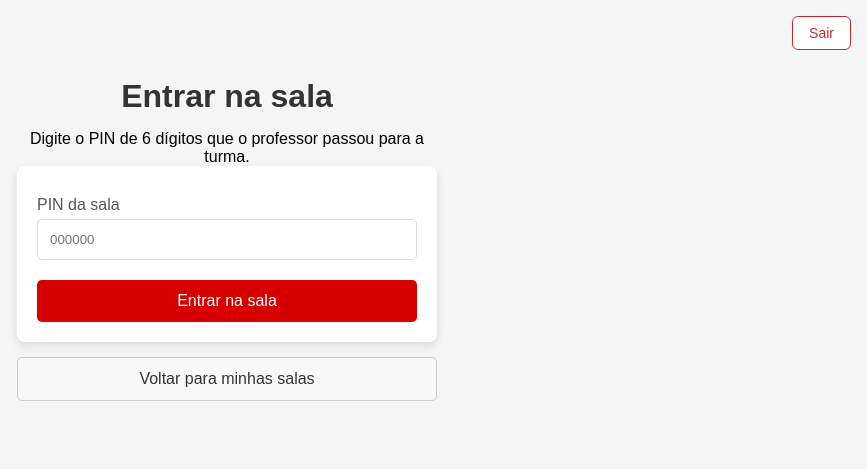
it: EntrarComPin — força bruta (AC-SALA-12) › bloqueado não entra, mesmo com o PIN certo
Expected: the heading "Entrar na sala" is shown, [121,78,333,114]
Type "481502" into the field labelled "PIN da sala" at {"x": 227, "y": 239}, box [37,219,417,260]
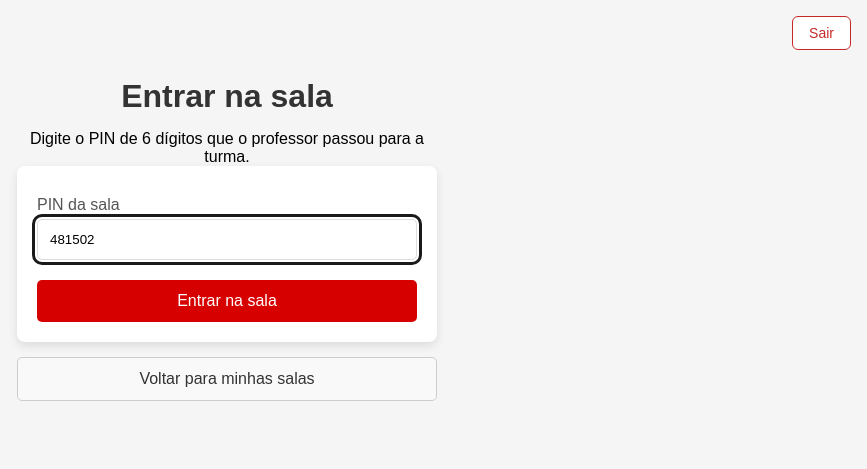
Click the button "Entrar na sala" at {"x": 227, "y": 301}, box [37,280,417,322]
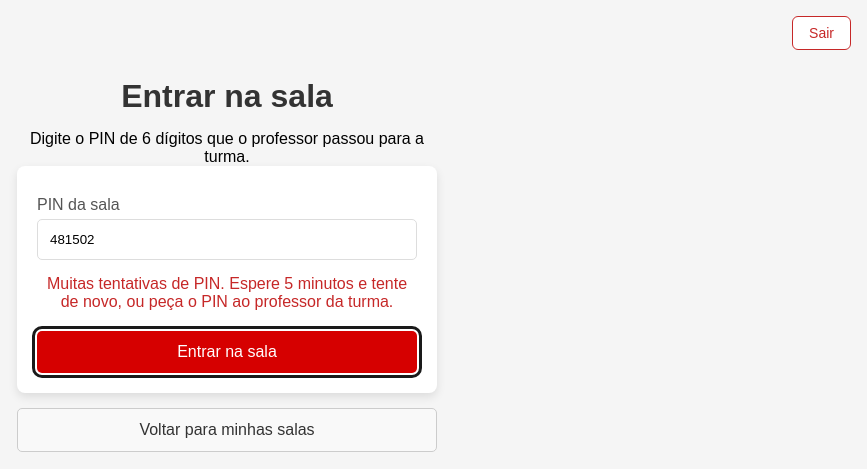
Now the message is shown, box [37,275,417,311]
